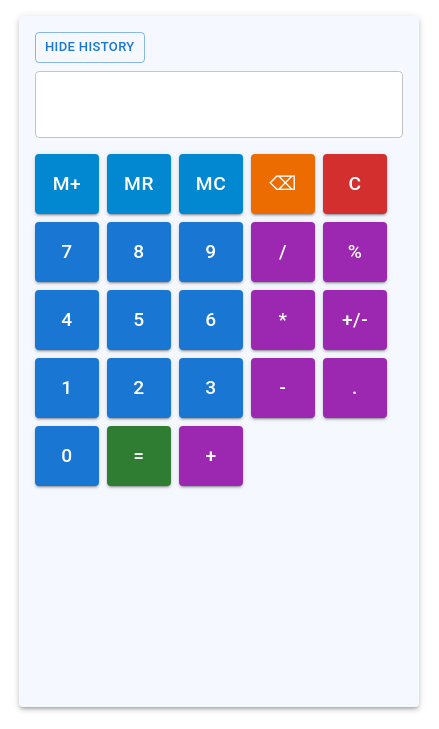
Test: Calculator › performs addition correctly
This screenshot has width=439, height=729.
Click the button "2" at (139, 388), box [107, 358, 171, 418]
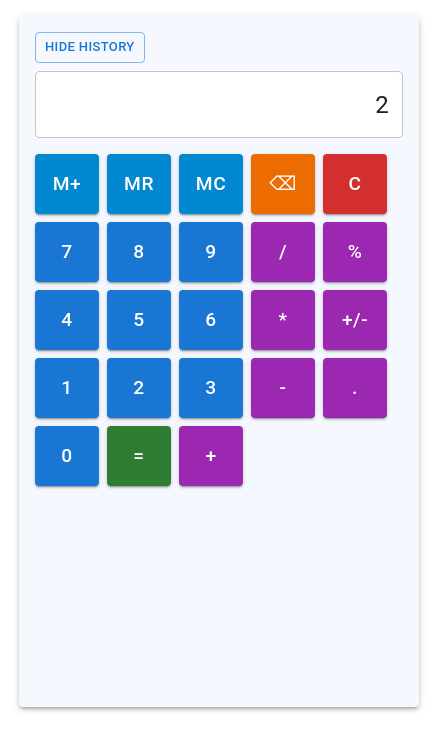
Click the button "+" at (211, 456), box [179, 426, 243, 486]
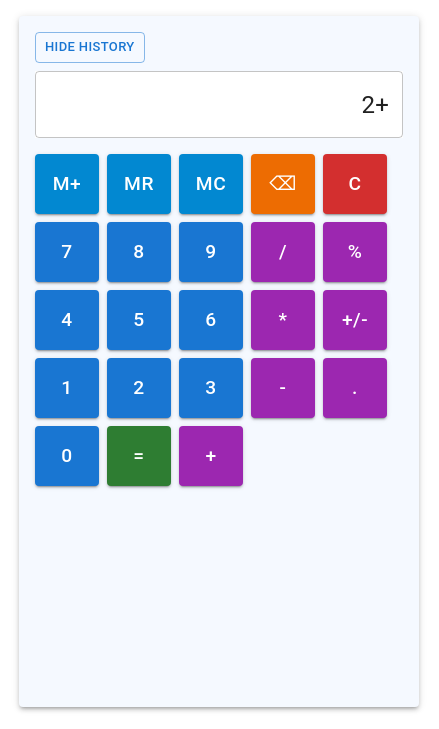
Click the button "3" at (211, 388), box [179, 358, 243, 418]
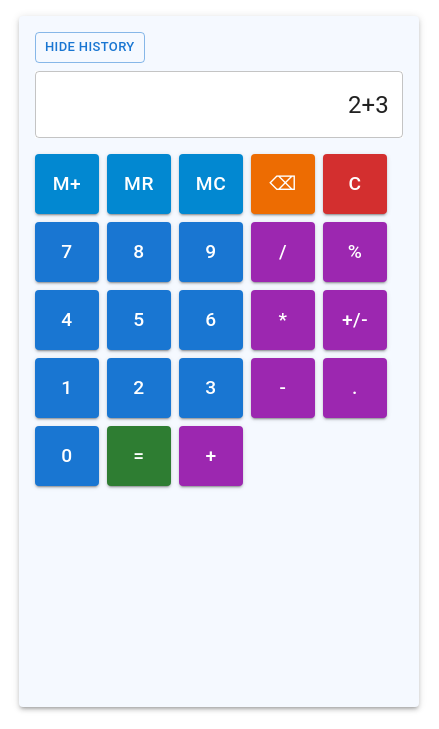
Click the button "=" at (139, 456), box [107, 426, 171, 486]
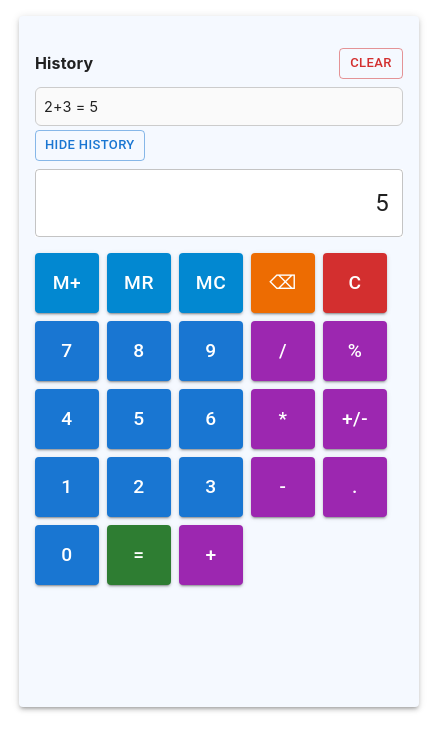
expect the field showing "5" is shown: met, box [35, 169, 403, 237]
